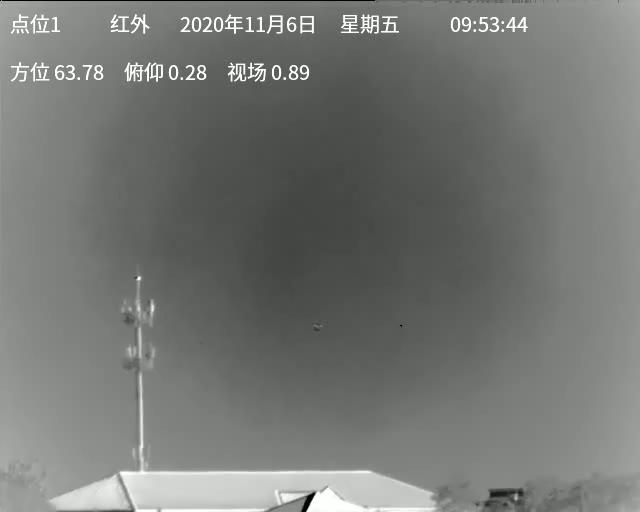uav: (312, 323, 324, 332)
